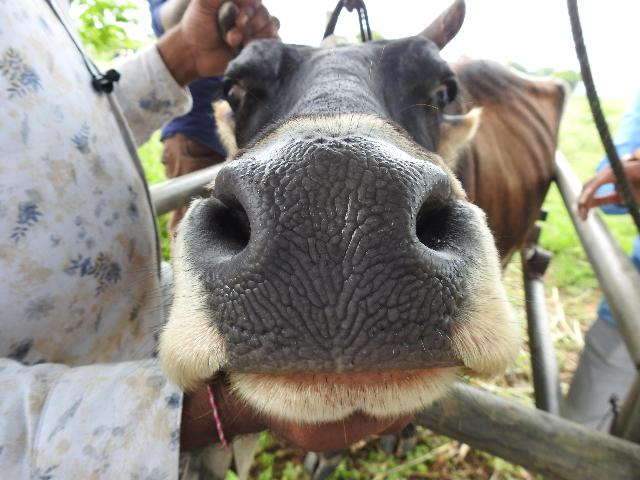Muzzle: (248, 158, 414, 360)
